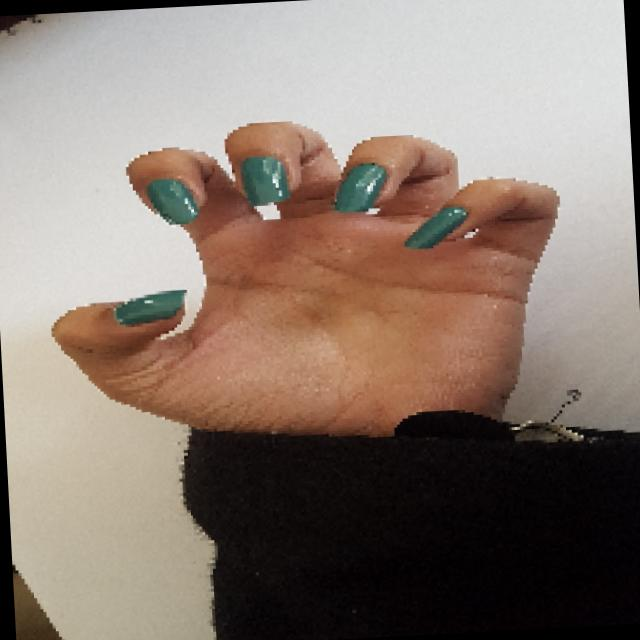Nail: (402, 206, 468, 250), (334, 163, 386, 213), (241, 156, 291, 206), (115, 290, 186, 325), (147, 179, 199, 224)
